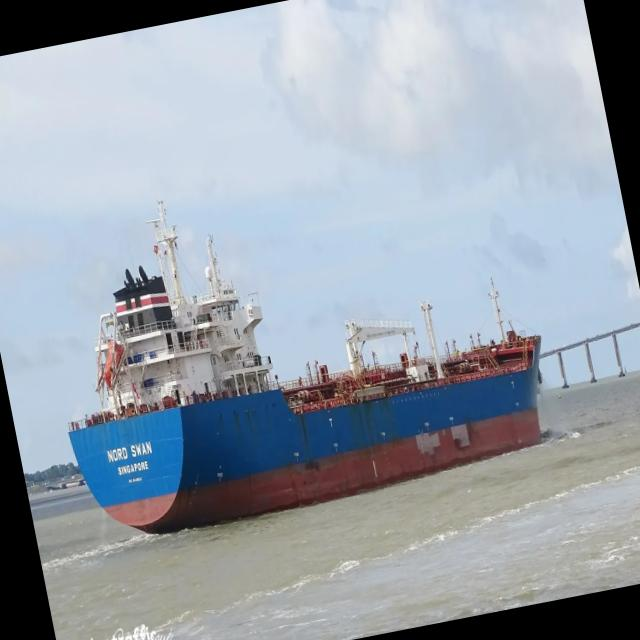Tanker: (69, 202, 542, 533)
